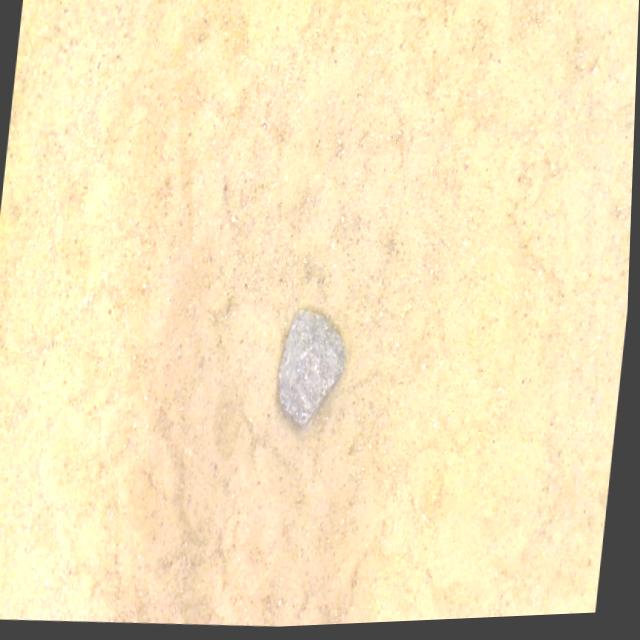rock: (280, 311, 346, 427)
